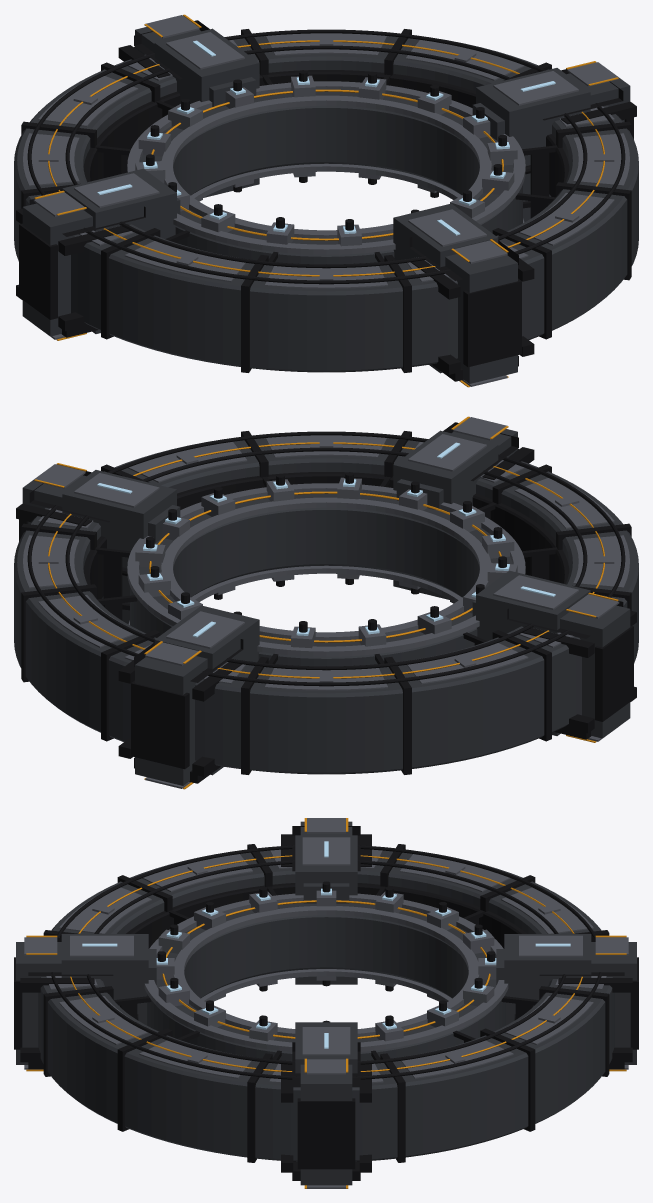
The model's file is stargate.obj.
3 renders of one model, top to bottom at view 1: azimuth 30°, elevation 25°; view 2: azimuth 150°, elevation 25°; view 3: azimuth 270°, elevation 25°, orthographic. The views are drawn at different scales.
Visible parts, largest first — view 1: SG_InnerRing__InnerRing_Body, SG_InnerRing__InnerRing_Flanges, SG_OuterRing__OuterRing_Segment_04, SG_OuterRing__OuterRing_Segment_05, SG_OuterRing__OuterRing_Conduits, SG_OuterRing__OuterRing_Segment_02, SG_Arms__Arm_2_Body, SG_Arms__Arm_1_Detail, SG_Arms__Arm_1_Body, SG_OuterRing__OuterRing_Core, SG_Arms__Arm_4_Body, SG_OuterRing__OuterRing_Segment_03 (+42 smaller); view 2: SG_InnerRing__InnerRing_Body, SG_InnerRing__InnerRing_Flanges, SG_OuterRing__OuterRing_Segment_08, SG_OuterRing__OuterRing_Segment_07, SG_OuterRing__OuterRing_Conduits, SG_OuterRing__OuterRing_Segment_10, SG_Arms__Arm_2_Body, SG_Arms__Arm_3_Detail, SG_Arms__Arm_3_Body, SG_OuterRing__OuterRing_Core, SG_Arms__Arm_4_Body, SG_OuterRing__OuterRing_Segment_09 (+42 smaller); view 3: SG_InnerRing__InnerRing_Body, SG_InnerRing__InnerRing_Flanges, SG_OuterRing__OuterRing_Segment_01, SG_OuterRing__OuterRing_Segment_11, SG_OuterRing__OuterRing_Conduits, SG_OuterRing__OuterRing_Segment_12, SG_OuterRing__OuterRing_Segment_02, SG_OuterRing__OuterRing_Segment_10, SG_Arms__Arm_4_Detail, SG_Arms__Arm_1_Body, SG_Arms__Arm_3_Body, SG_OuterRing__OuterRing_Core (+32 smaller).
Boxes of the visible parts, x1=… form: SG_InnerRing__InnerRing_Body: x1=140, y1=91, x2=522, y2=264; SG_InnerRing__InnerRing_Flanges: x1=127, y1=81, x2=525, y2=254; SG_OuterRing__OuterRing_Segment_04: x1=250, y1=265, x2=402, y2=372; SG_OuterRing__OuterRing_Segment_05: x1=108, y1=235, x2=254, y2=366; SG_OuterRing__OuterRing_Conduits: x1=27, y1=29, x2=625, y2=372; SG_OuterRing__OuterRing_Segment_02: x1=507, y1=189, x2=627, y2=330; SG_Arms__Arm_2_Body: x1=22, y1=168, x2=180, y2=336; SG_Arms__Arm_1_Detail: x1=409, y1=237, x2=534, y2=381; SG_Arms__Arm_1_Body: x1=393, y1=203, x2=517, y2=383; SG_OuterRing__OuterRing_Core: x1=83, y1=70, x2=569, y2=197; SG_Arms__Arm_4_Body: x1=472, y1=68, x2=630, y2=222; SG_OuterRing__OuterRing_Segment_03: x1=398, y1=235, x2=544, y2=366; SG_InnerRing__InnerRing_Body: x1=130, y1=493, x2=512, y2=666; SG_InnerRing__InnerRing_Flanges: x1=127, y1=483, x2=525, y2=656; SG_OuterRing__OuterRing_Segment_08: x1=250, y1=667, x2=402, y2=774; SG_OuterRing__OuterRing_Segment_07: x1=398, y1=637, x2=544, y2=768; SG_OuterRing__OuterRing_Conduits: x1=27, y1=431, x2=625, y2=774; SG_OuterRing__OuterRing_Segment_10: x1=25, y1=591, x2=145, y2=732; SG_Arms__Arm_2_Body: x1=472, y1=570, x2=630, y2=738; SG_Arms__Arm_3_Detail: x1=118, y1=639, x2=243, y2=783; SG_Arms__Arm_3_Body: x1=135, y1=605, x2=259, y2=785; SG_OuterRing__OuterRing_Core: x1=83, y1=472, x2=569, y2=599; SG_Arms__Arm_4_Body: x1=22, y1=470, x2=180, y2=624; SG_OuterRing__OuterRing_Segment_09: x1=108, y1=637, x2=254, y2=768; SG_InnerRing__InnerRing_Body: x1=147, y1=903, x2=505, y2=1061; SG_InnerRing__InnerRing_Flanges: x1=144, y1=893, x2=508, y2=1051; SG_OuterRing__OuterRing_Segment_01: x1=124, y1=1035, x2=259, y2=1157; SG_OuterRing__OuterRing_Segment_11: x1=393, y1=1035, x2=528, y2=1157; SG_OuterRing__OuterRing_Conduits: x1=51, y1=845, x2=601, y2=1161; SG_OuterRing__OuterRing_Segment_12: x1=255, y1=1063, x2=397, y2=1161; SG_OuterRing__OuterRing_Segment_02: x1=47, y1=992, x2=158, y2=1123; SG_OuterRing__OuterRing_Segment_10: x1=494, y1=992, x2=605, y2=1123; SG_Arms__Arm_4_Detail: x1=281, y1=1042, x2=371, y2=1180; SG_Arms__Arm_1_Body: x1=16, y1=934, x2=156, y2=1064; SG_Arms__Arm_3_Body: x1=496, y1=934, x2=636, y2=1064; SG_OuterRing__OuterRing_Core: x1=126, y1=883, x2=526, y2=948.
Bounding box in the file's own units: 3020 × 628 × 3020.
